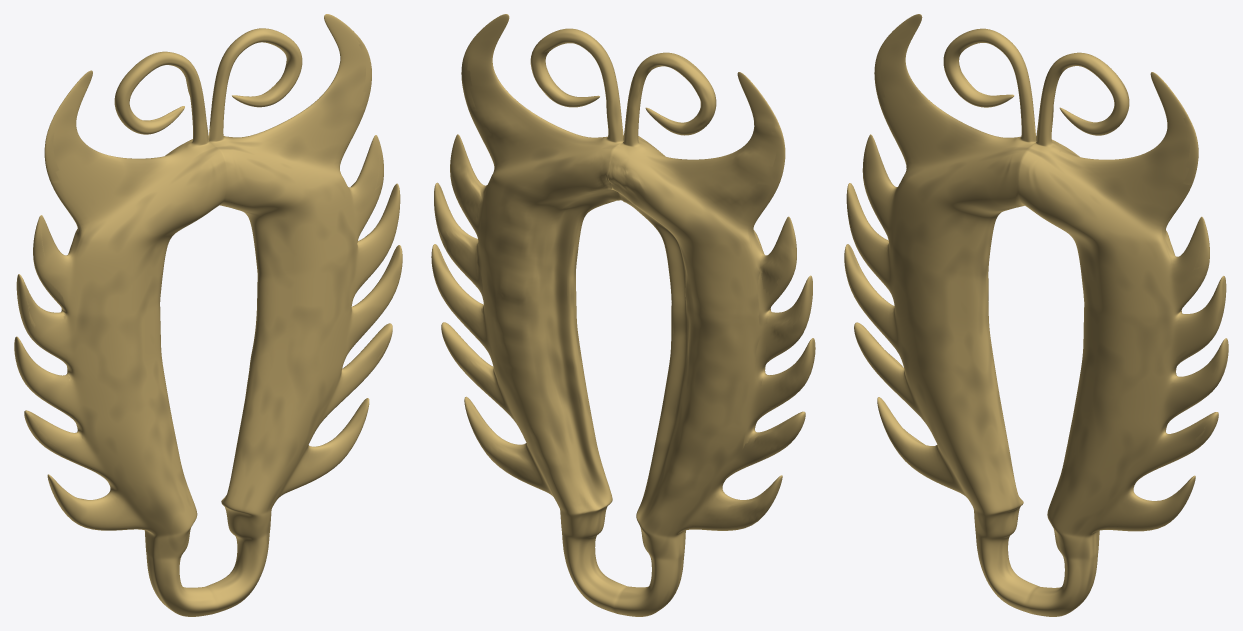
Rendered from taiganja.glb.
The picture shows the model from 3 angles, left to right: view 1: azimuth 30°, elevation 25°; view 2: azimuth 150°, elevation 25°; view 3: azimuth 330°, elevation 25°; orthographic projection.
Parts seen in each view (by area): view 1: Cube; view 2: Cube; view 3: Cube.
Part boxes in pixels (x1,y1,x2,y2): Cube: (14, 14, 402, 616); Cube: (431, 14, 815, 616); Cube: (844, 14, 1228, 616).
Bounding box in the file's own units: 0.3173 × 0.4514 × 0.0494.
1 material, 1 textured.
